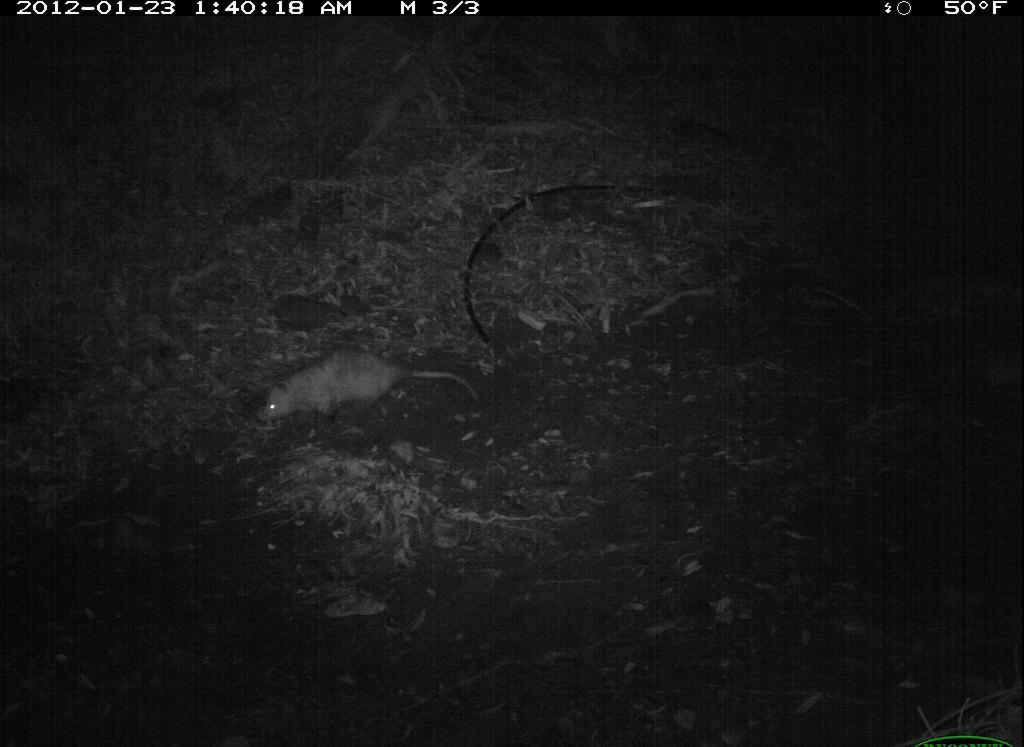opossum: (250, 347, 500, 442)
